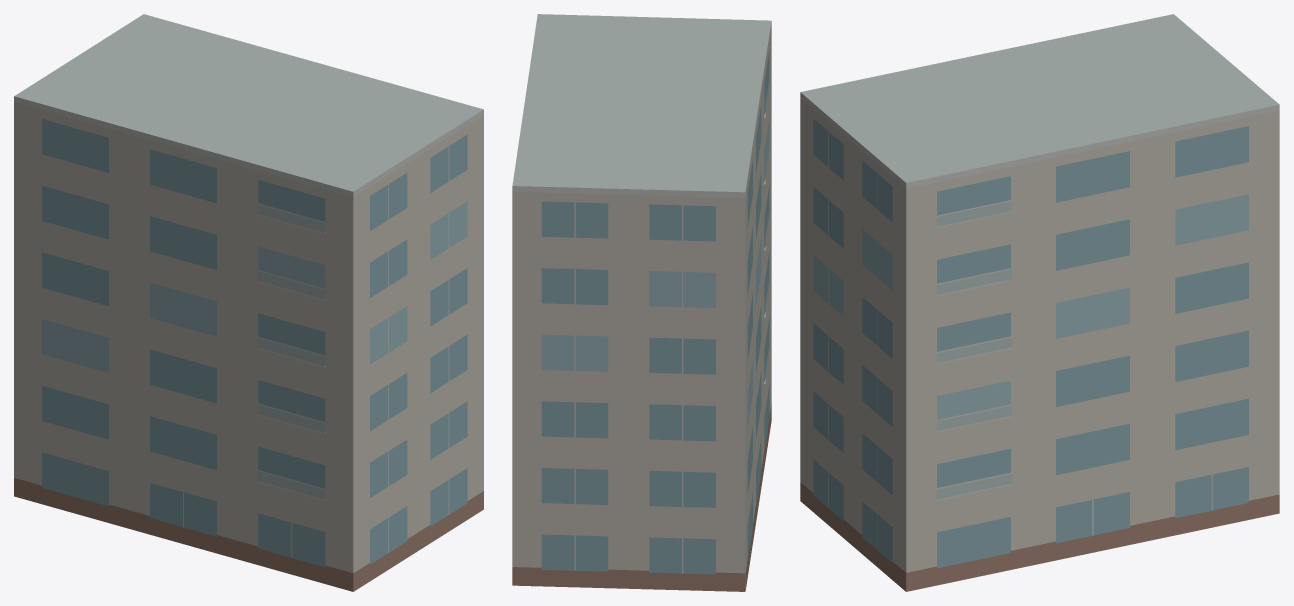
The model's file is survey-upis-32978563.glb.
The picture shows the model from 3 angles, left to right: view 1: azimuth 30°, elevation 25°; view 2: azimuth 150°, elevation 25°; view 3: azimuth 270°, elevation 25°; orthographic projection. The views are drawn at different scales.
Parts seen in each view (by area): view 1: survey-upis-32978563.tmp; view 2: survey-upis-32978563.tmp; view 3: survey-upis-32978563.tmp.
Part boxes in pixels (left/top/right/bottom): survey-upis-32978563.tmp: left=14, top=14, right=483, bottom=591; survey-upis-32978563.tmp: left=512, top=14, right=771, bottom=591; survey-upis-32978563.tmp: left=800, top=14, right=1279, bottom=591.
Bounding box in the file's own units: 15.34 × 17.3 × 18.39.
